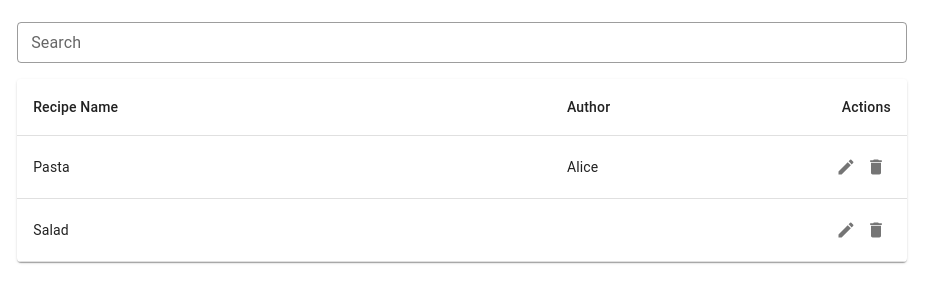
Test: RecipeList › search › shows no matching message when search has no results
Type "xyz" into the field labelled "Search" at (462, 42), box [17,22,907,63]
Wait 200 ms
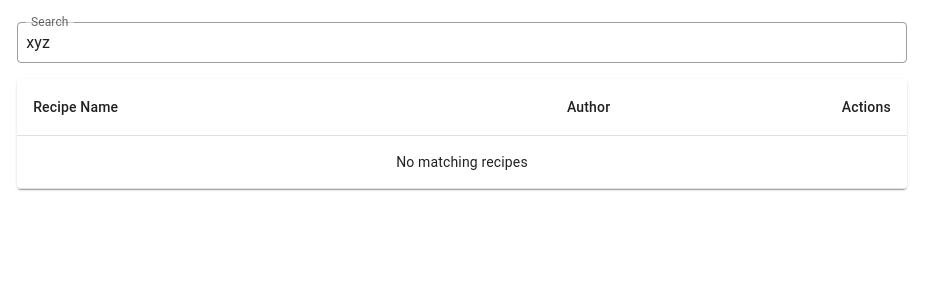
expect the text "No matching recipes" is shown: met, box [17,136,907,189]
